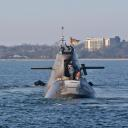submarine: (29, 27, 108, 100)
